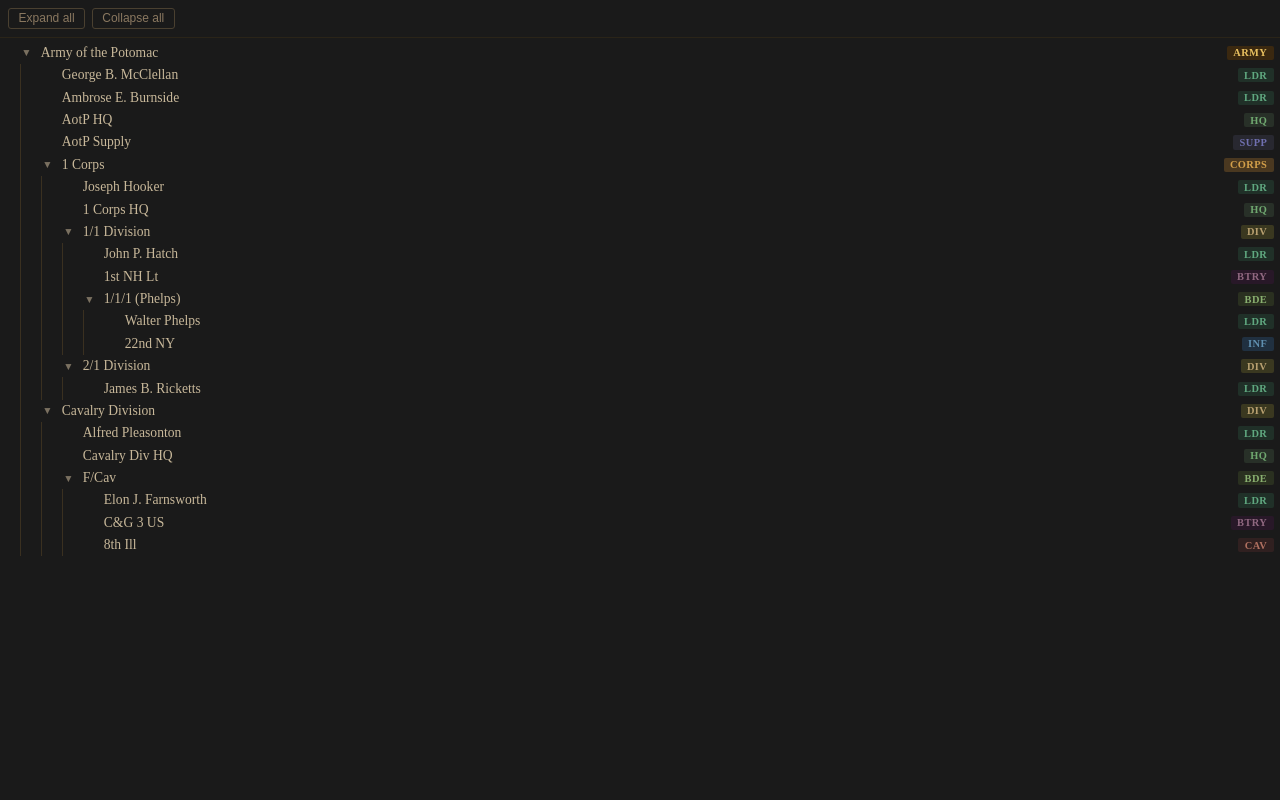
Test: OobHierarchyTree — expand/collapse all › collapses corps children but keeps army and corps rows visible
The image size is (1280, 800).
Click the button with class "control-btn" showing "Collapse all". click: (133, 18)
box: [92,8,175,29]
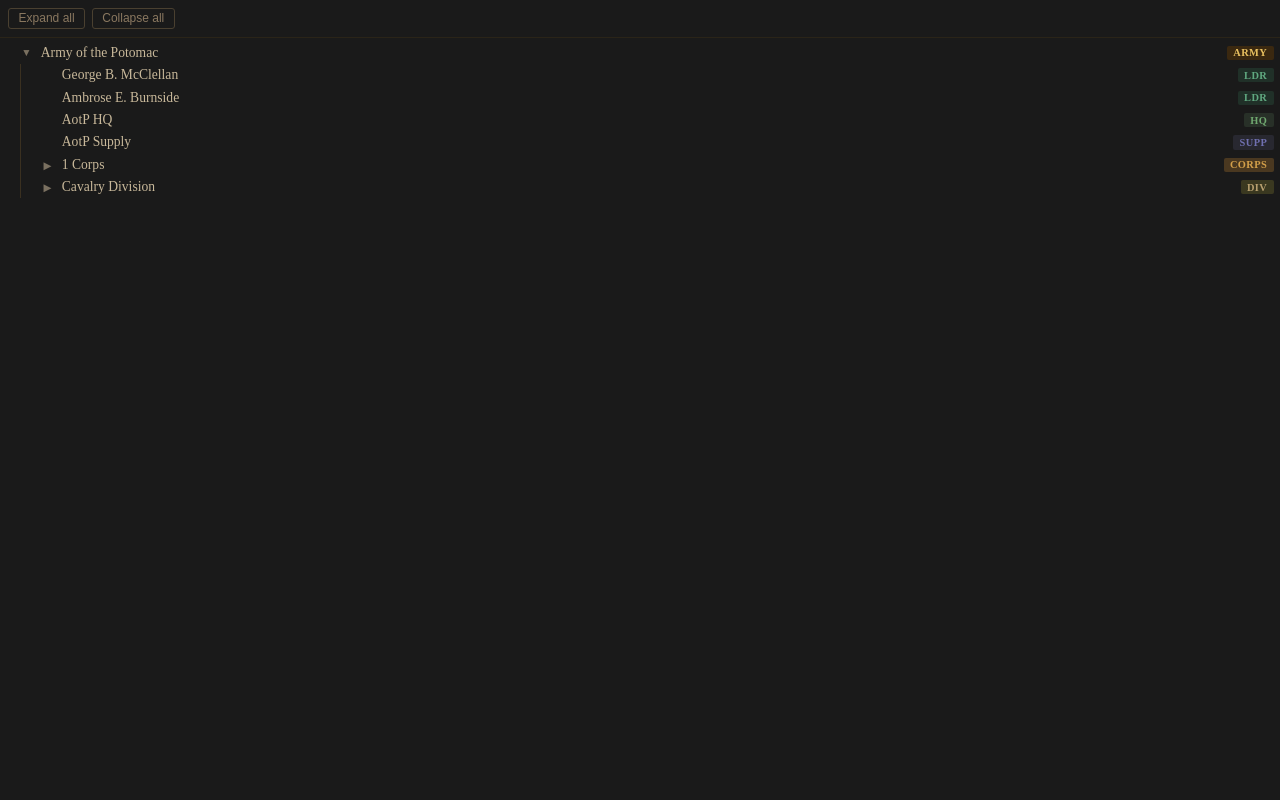
Expected: the text "Army of the Potomac" is shown, [41,45,158,60]
Expected: the text "1/1 Division" is gone
